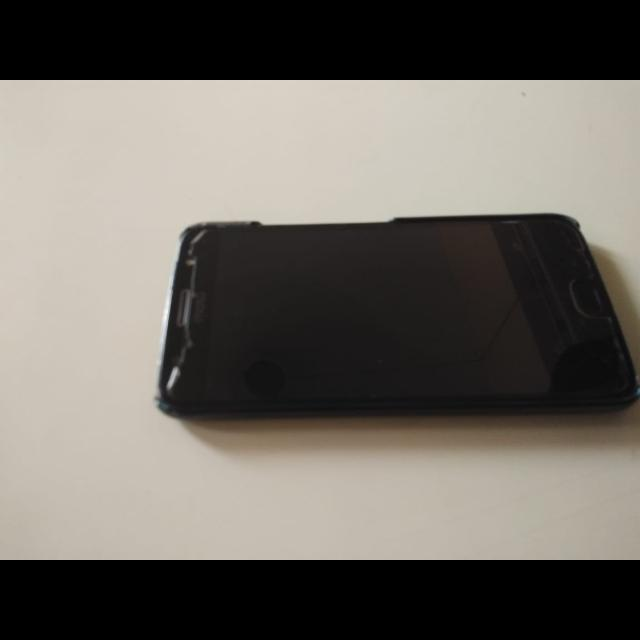Smartphone: (140, 199, 640, 437)
